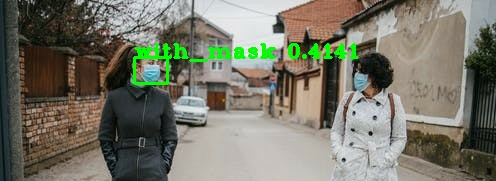with_mask: (124, 47, 161, 86), (352, 54, 388, 94)
